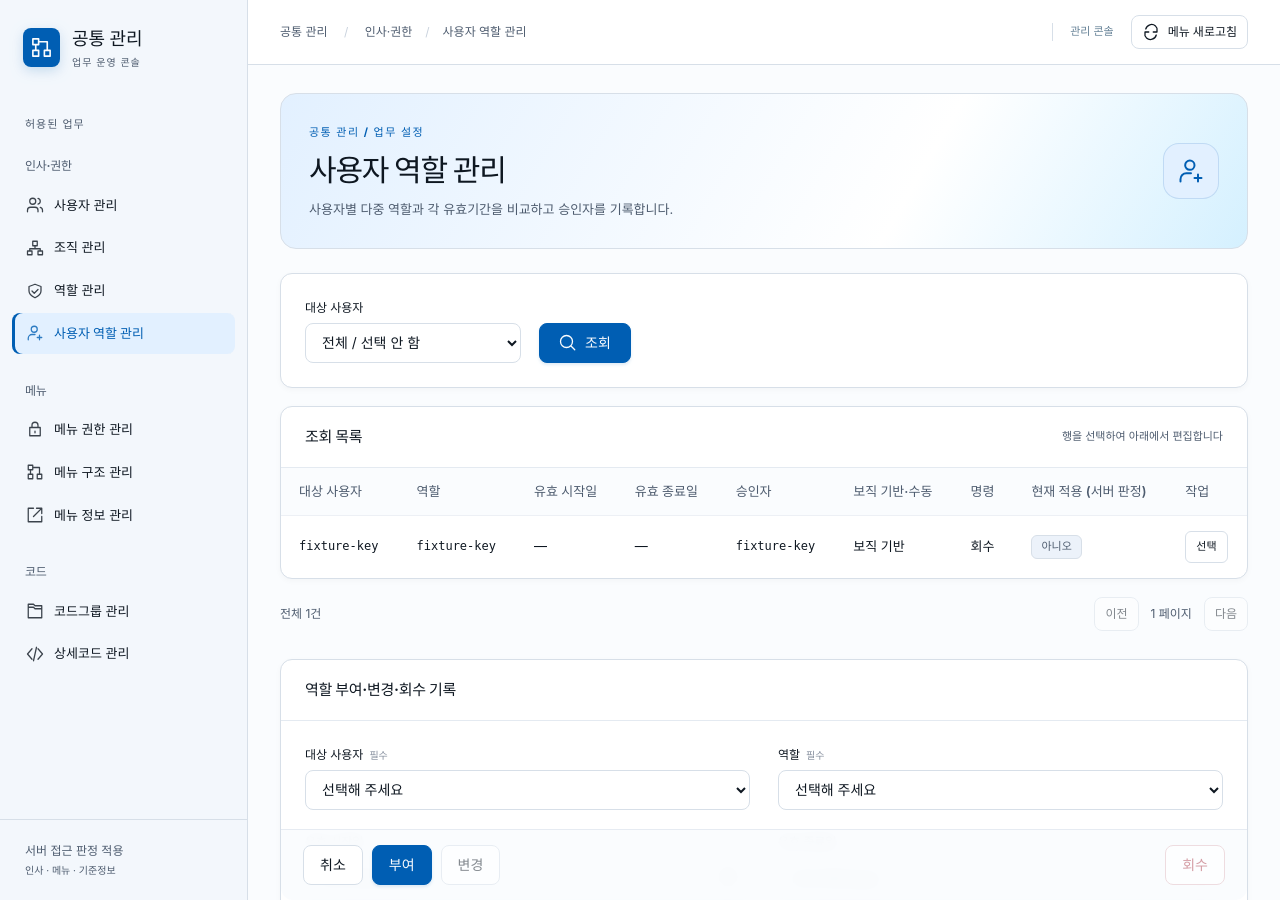
Test: 실제 App 접근 판정과 화면 계약 › 승인자가 비어 있으면 자동 지정하거나 서버에 제출하지 않는다
Expected: the heading "사용자 역할 관리" is shown, x1=309 y1=152 x2=506 y2=188
Step 1. Click the button "부여" → (402,865), box x1=372 y1=845 x2=432 y2=885
(page scrolled)
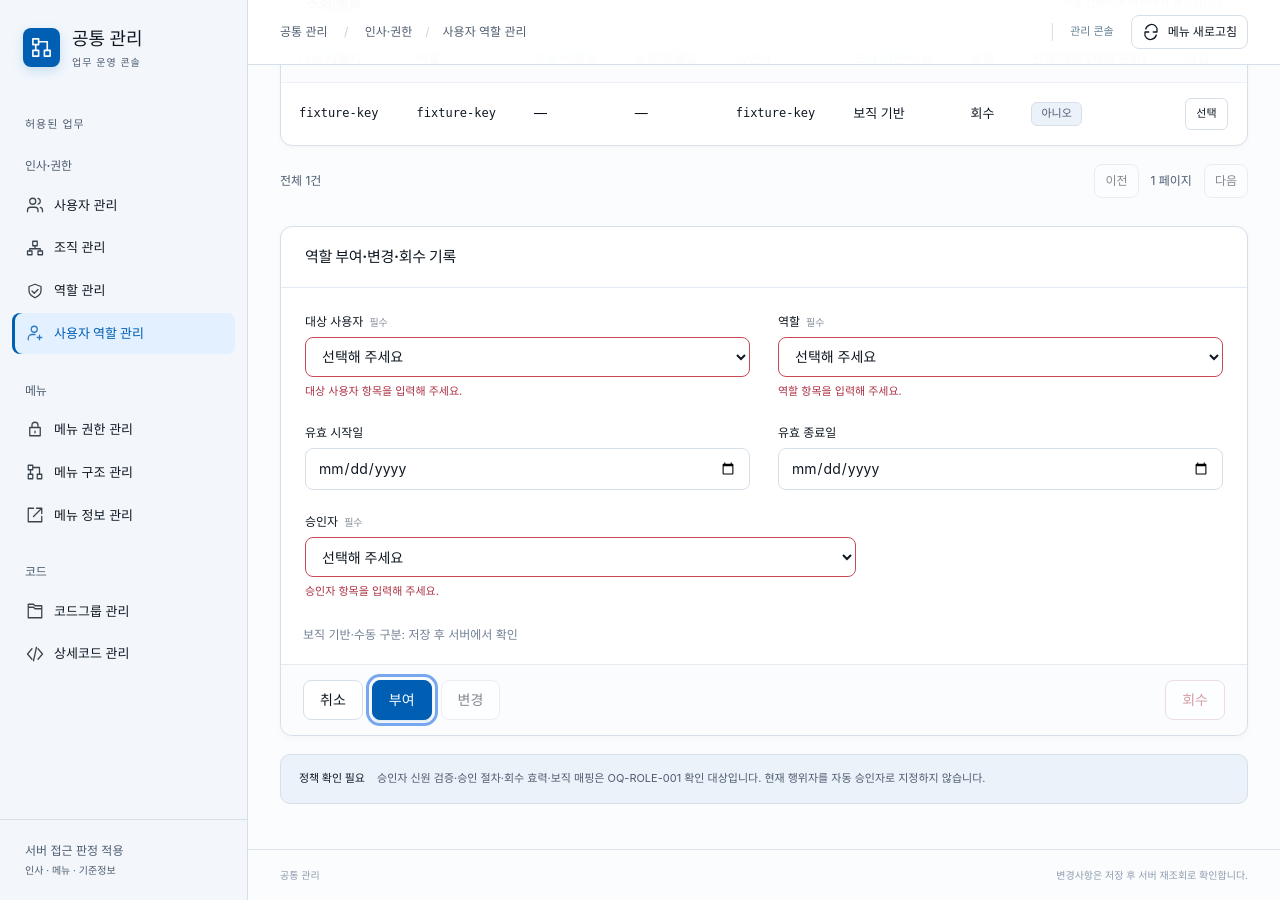
Result: the text "승인자 항목을 입력해 주세요." is shown at x1=305 y1=584 x2=439 y2=598
